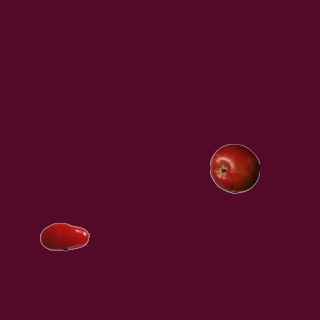Apple Braeburn: (209, 143, 259, 193)
Tomato 2: (39, 211, 89, 261)
